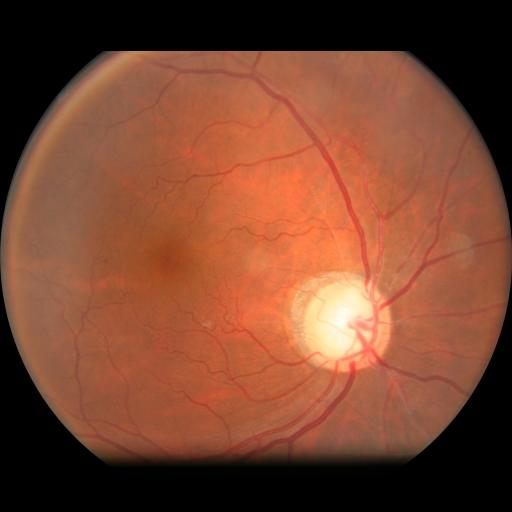Optic Cup: (321, 301, 371, 348)
Optic Disc: (303, 281, 391, 373)
